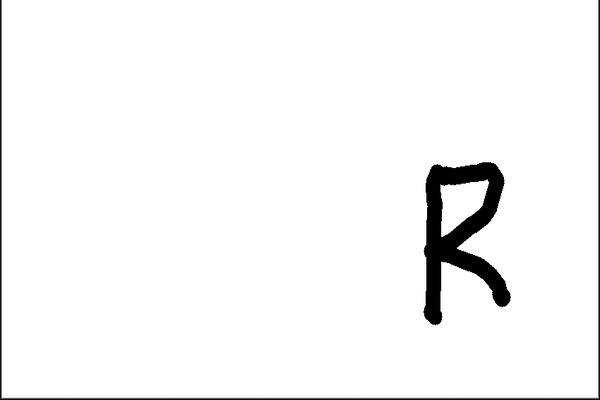R: (417, 154, 519, 326)
